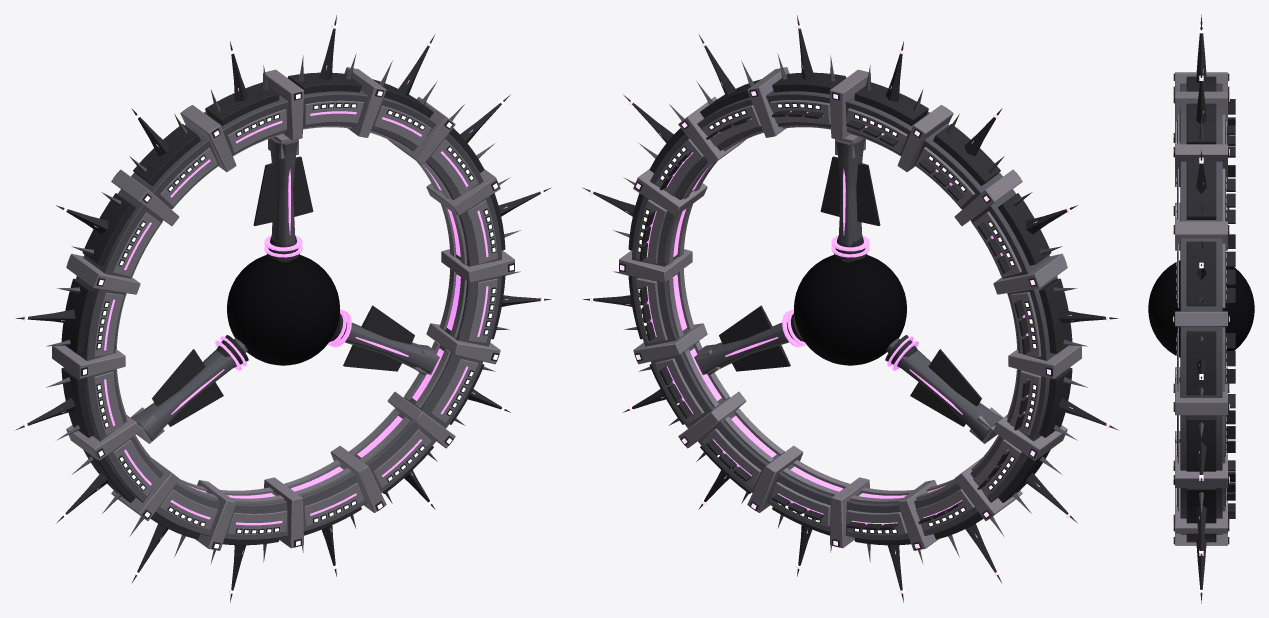
The model's file is gravity_well.glb.
3 renders of one model, left to right at view 1: azimuth 30°, elevation 25°; view 2: azimuth 150°, elevation 25°; view 3: azimuth 270°, elevation 25°, orthographic. The views are drawn at different scales.
Visible parts, largest first — view 1: ring, pylons, core; view 2: ring, pylons, core; view 3: ring, core.
Part boxes in pixels (left/top/right/bottom): ring: left=15, top=15, right=551, bottom=602; pylons: left=130, top=134, right=439, bottom=443; core: left=227, top=255, right=339, bottom=365; ring: left=582, top=15, right=1118, bottom=602; pylons: left=694, top=134, right=1003, bottom=443; core: left=794, top=255, right=906, bottom=365; ring: left=1173, top=14, right=1235, bottom=603; core: left=1148, top=260, right=1254, bottom=357.
Bounding box in the file's own units: 275 × 275 × 50.
